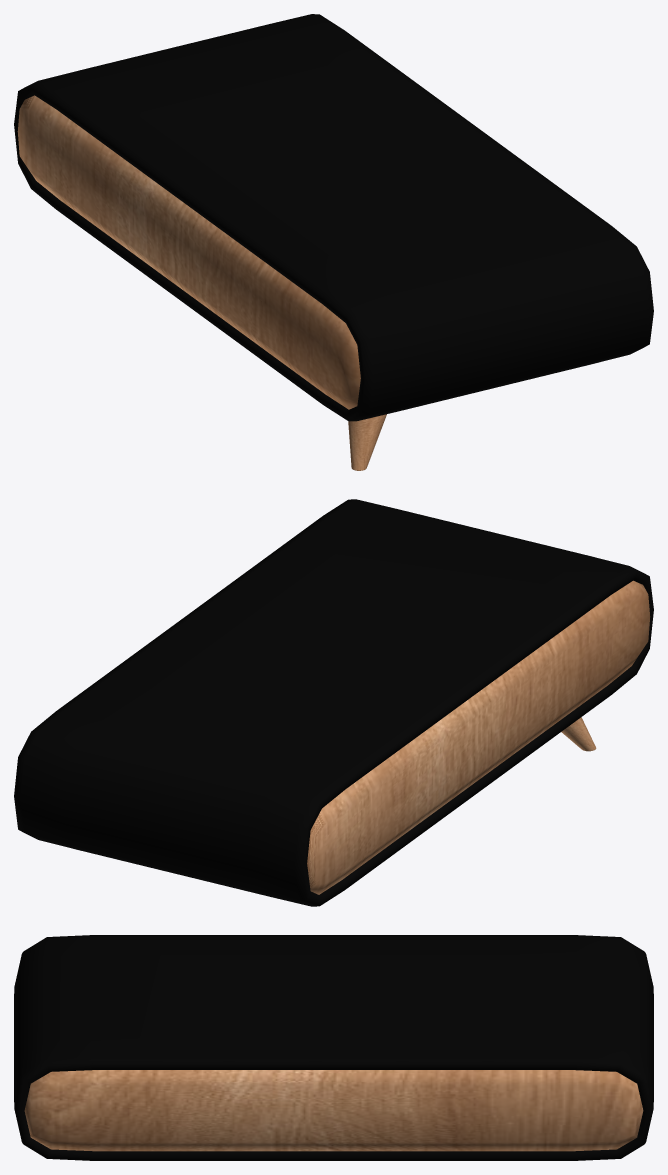
The model's file is TVTable.glb.
3 views of the same model, one above another, from view 1: azimuth 30°, elevation 25°; view 2: azimuth 150°, elevation 25°; view 3: azimuth 270°, elevation 25° (orthographic). The views are drawn at different scales.
Parts seen in each view (by area): view 1: lounge table, Cube.013, Cone; view 2: lounge table, Cube.013, Cone; view 3: lounge table, Cube.013.
Part boxes in pixels (left/top/right/bottom): lounge table: left=14, top=14, right=653, bottom=421; Cube.013: left=17, top=95, right=360, bottom=409; Cone: left=348, top=414, right=386, bottom=470; lounge table: left=14, top=499, right=653, bottom=906; Cube.013: left=307, top=580, right=650, bottom=894; Cone: left=561, top=717, right=596, bottom=751; lounge table: left=14, top=935, right=653, bottom=1160; Cube.013: left=24, top=1070, right=643, bottom=1151.
Size of the model in its own units: 0.4993 by 0.2806 by 1.02.
2 materials, 1 textured.
